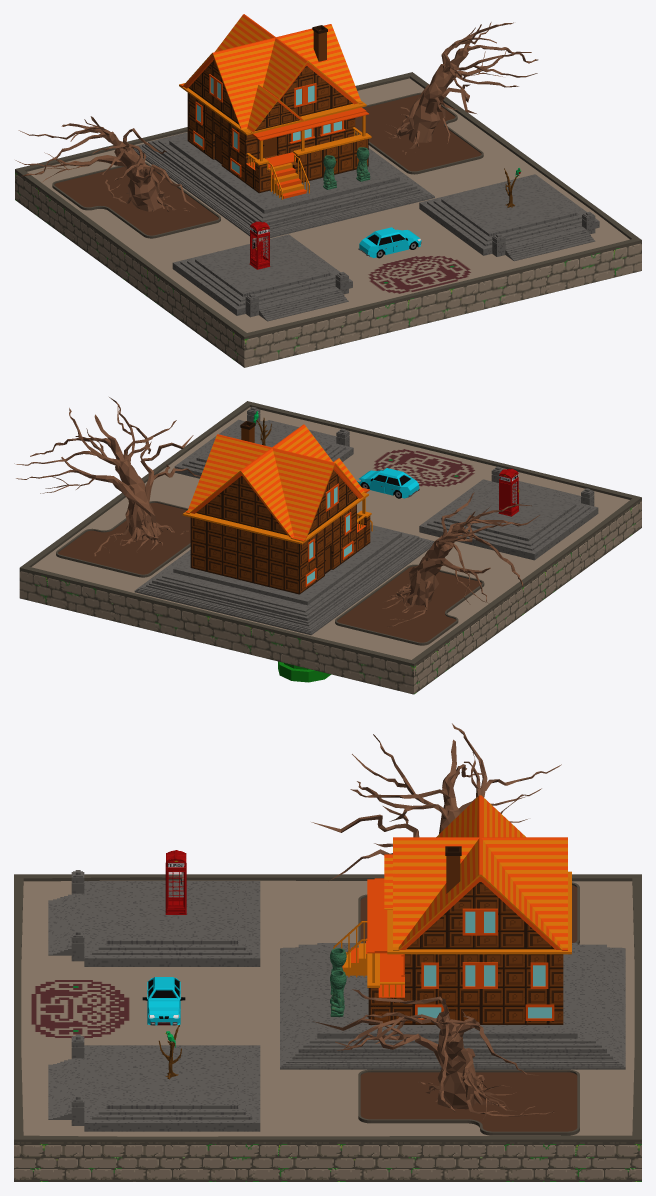
3 renders of one model, top to bottom at view 1: azimuth 30°, elevation 25°; view 2: azimuth 150°, elevation 25°; view 3: azimuth 270°, elevation 25°, orthographic. The views are drawn at different scales.
Visible parts, largest first — view 1: Cube.011, Cube, VEHICLES_CAR, OBJRANDOM_PHONEBOOTH; view 2: Cube.011, Cube, VEHICLES_CAR, OBJRANDOM_PHONEBOOTH, UNDERGROUND_PIPES; view 3: Cube.011, Cube, VEHICLES_CAR, OBJRANDOM_PHONEBOOTH.
Boxes of the visible parts, box(x1,y1,x2,y2) form: Cube.011: box(15, 22, 641, 367); Cube: box(179, 14, 371, 199); VEHICLES_CAR: box(358, 227, 421, 258); OBJRANDOM_PHONEBOOTH: box(249, 221, 270, 269); Cube.011: box(14, 397, 641, 694); Cube: box(182, 421, 372, 594); VEHICLES_CAR: box(357, 468, 419, 498); OBJRANDOM_PHONEBOOTH: box(498, 468, 519, 516); UNDERGROUND_PIPES: box(278, 661, 331, 682); Cube.011: box(14, 723, 641, 1181); Cube: box(333, 795, 571, 1024); VEHICLES_CAR: box(142, 977, 185, 1025); OBJRANDOM_PHONEBOOTH: box(165, 850, 186, 914).
Size of the model in its own units: 5099 by 2243 by 4000.
Materials: 41 (6 with a texture image).
